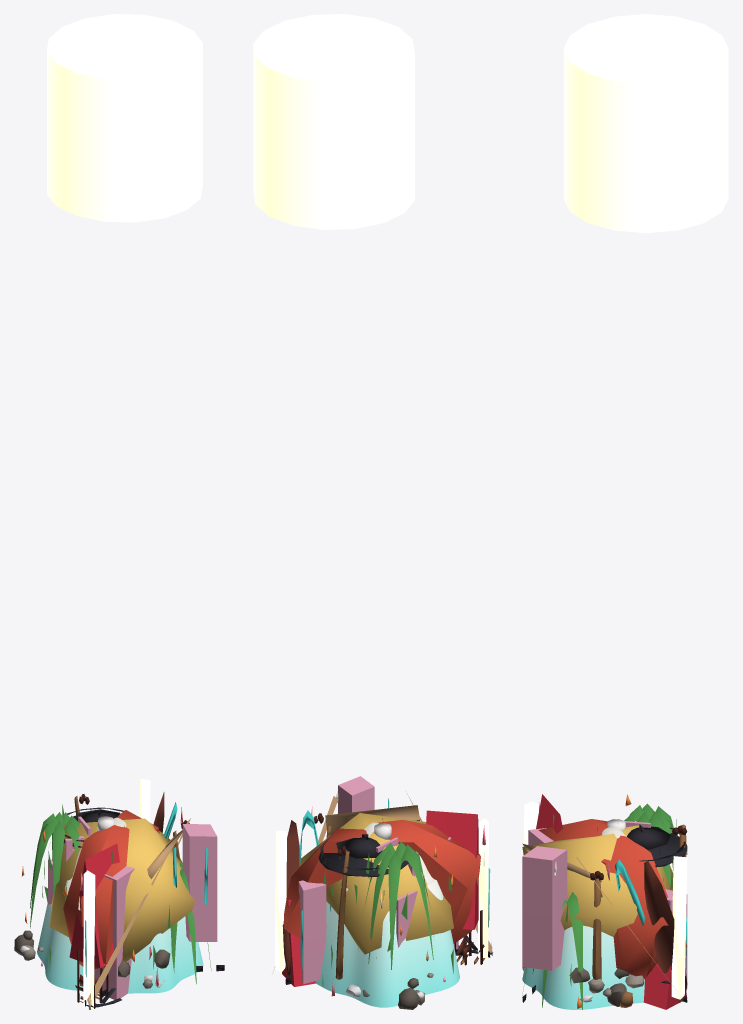
File: ile-phare-v4-leger.glb
3 renders of one model, left to right at view 1: azimuth 30°, elevation 25°; view 2: azimuth 150°, elevation 25°; view 3: azimuth 270°, elevation 25°, orthographic. The views are drawn at different scales.
Parts seen in each view (by area): view 1: phare_lanterne.001, phare_decor.001, phare_terrain.001; view 2: phare_lanterne.001, phare_decor.001, phare_terrain.001; view 3: phare_lanterne.001, phare_decor.001, phare_terrain.001.
Boxes of the visible parts, x1,y1,x2,y2 form: phare_lanterne.001: (47,14,202,222); phare_decor.001: (14,778,224,1009); phare_terrain.001: (37,817,203,993); phare_lanterne.001: (253,14,414,229); phare_decor.001: (272,776,492,1009); phare_terrain.001: (316,822,459,1007); phare_lanterne.001: (563,14,728,233); phare_decor.001: (522,794,687,1009); phare_terrain.001: (522,827,644,1009).
Bounding box in the file's own units: 2.4 × 12.58 × 2.5.
